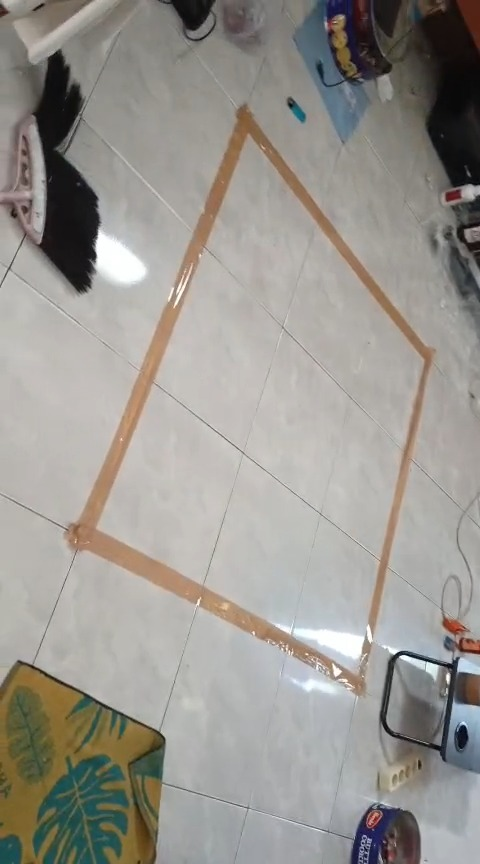floor marking: (67, 106, 434, 694)
